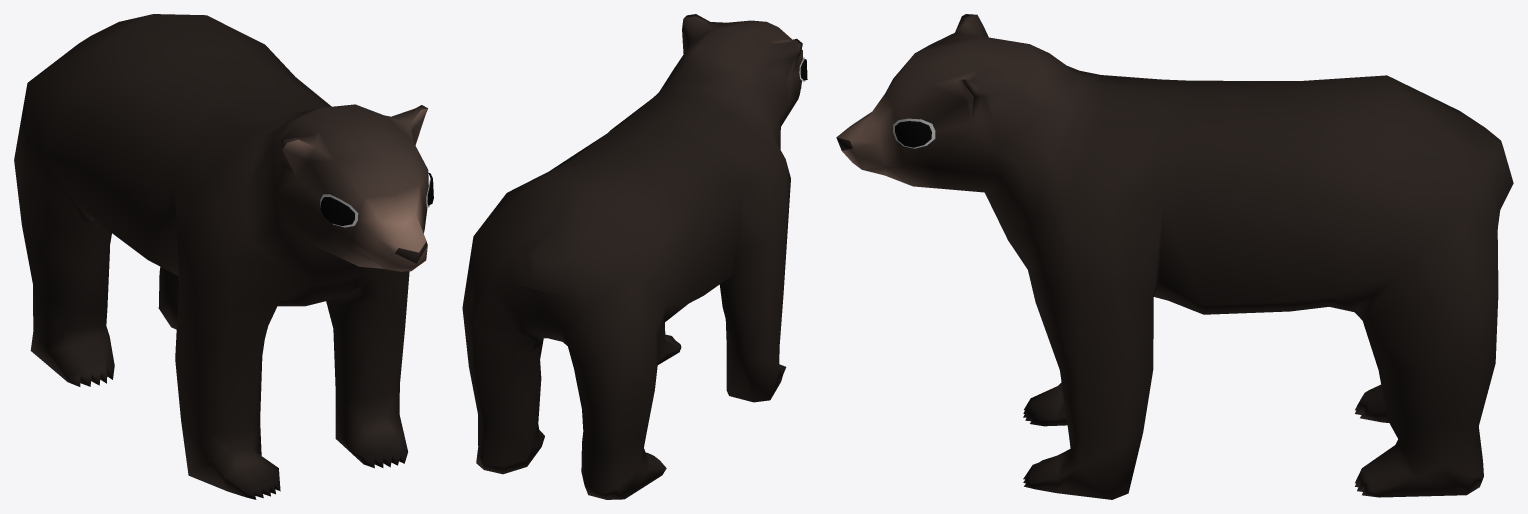
File: kit-grizzly.glb
The picture shows the model from 3 angles, left to right: view 1: azimuth 30°, elevation 25°; view 2: azimuth 150°, elevation 25°; view 3: azimuth 270°, elevation 25°; orthographic projection. The views are drawn at different scales.
Visible parts, largest first — view 1: alt577; view 2: alt577; view 3: alt577.
Part boxes in pixels (x1,y1,x2,y2): alt577: (14, 14, 433, 499); alt577: (462, 14, 807, 499); alt577: (836, 14, 1513, 499).
Bounding box in the file's own units: 0.8084 × 1.32 × 2.02.
